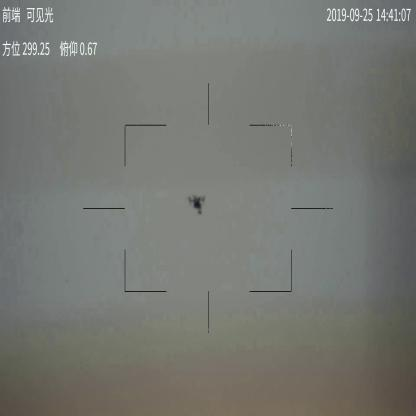uav: (186, 193, 208, 216)
